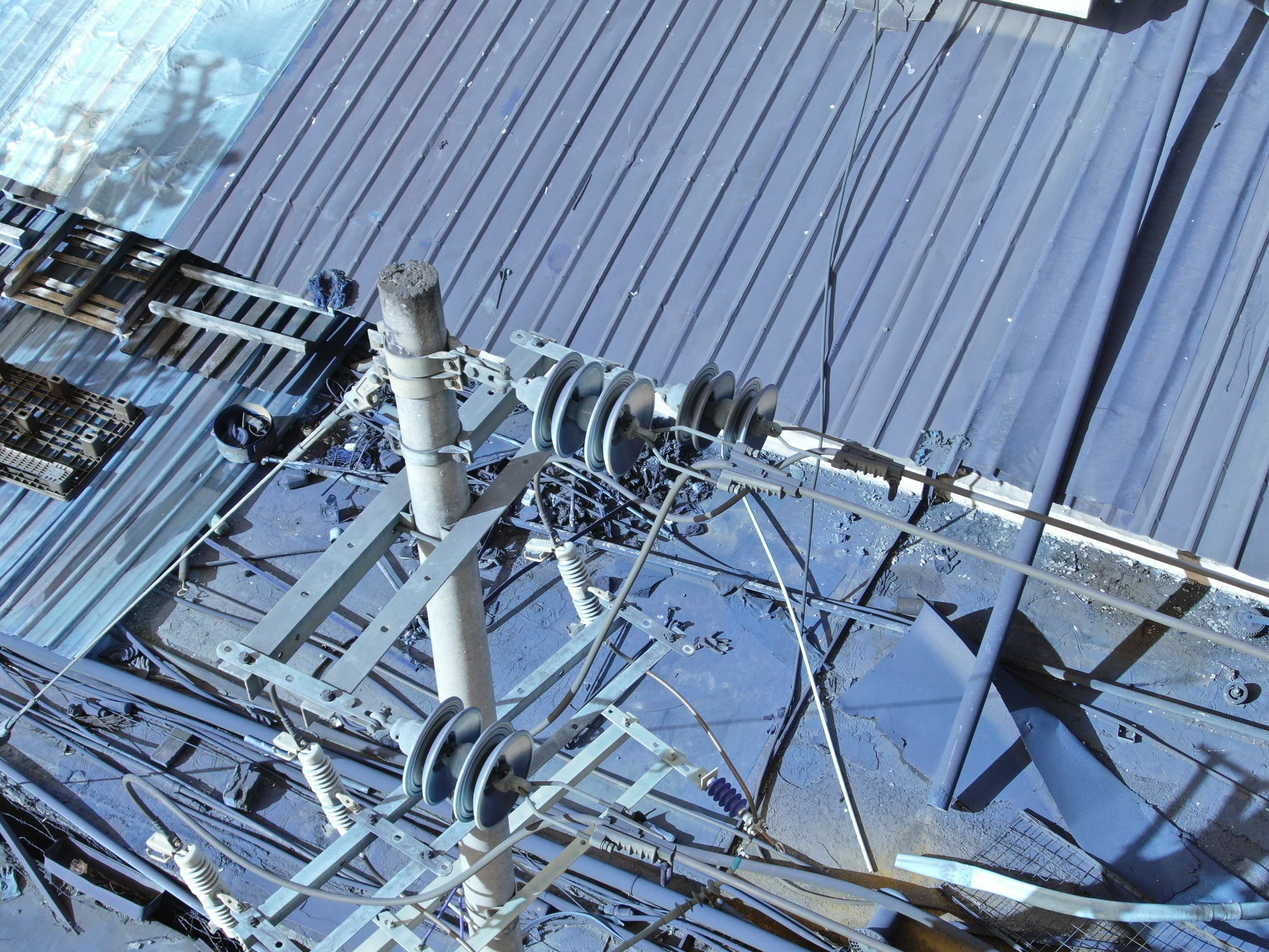severe_soiling_no_discharge_whole: (388, 695, 536, 835), (510, 349, 659, 484), (659, 353, 780, 465)
